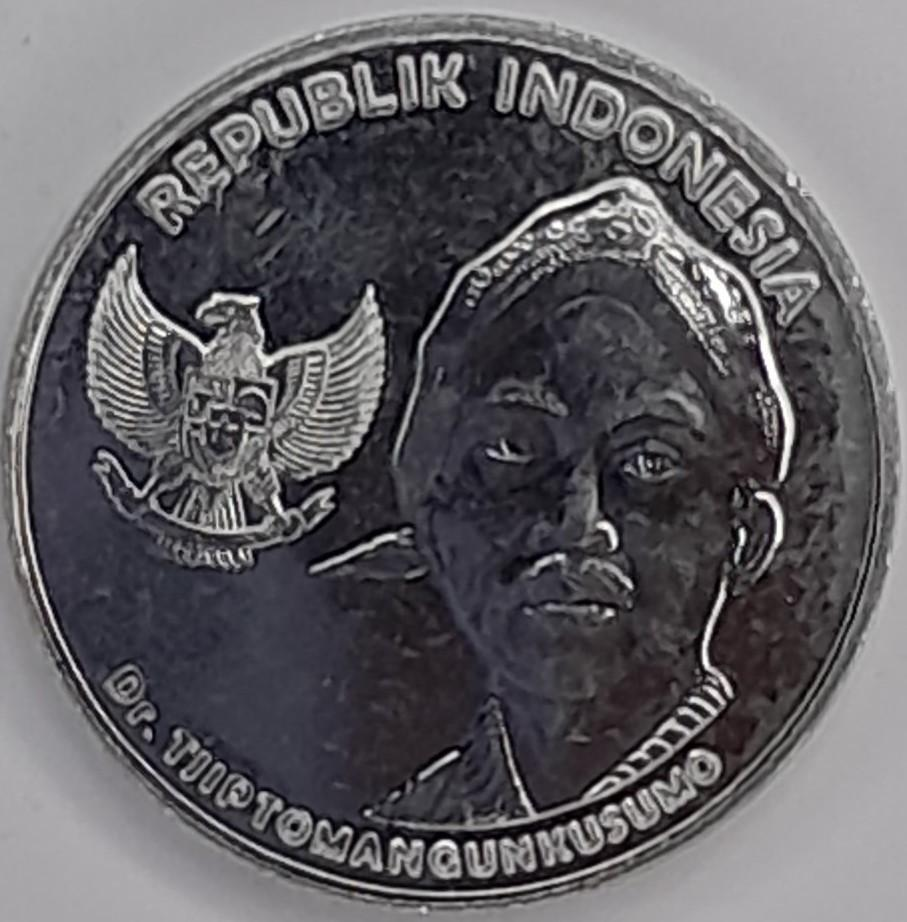coin_200_e2016: (0, 16, 907, 922)
